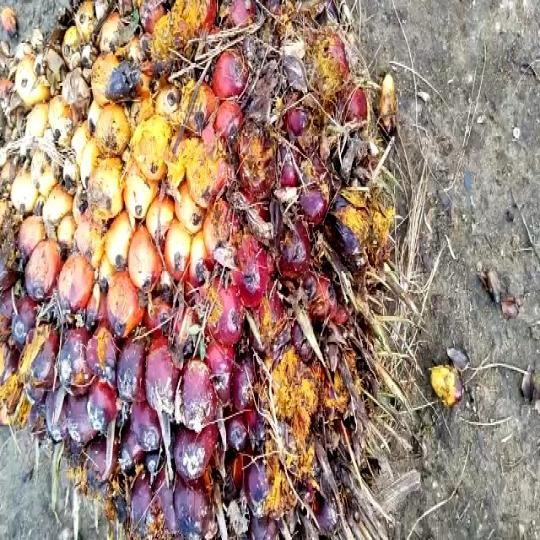masak: (0, 0, 396, 540)
